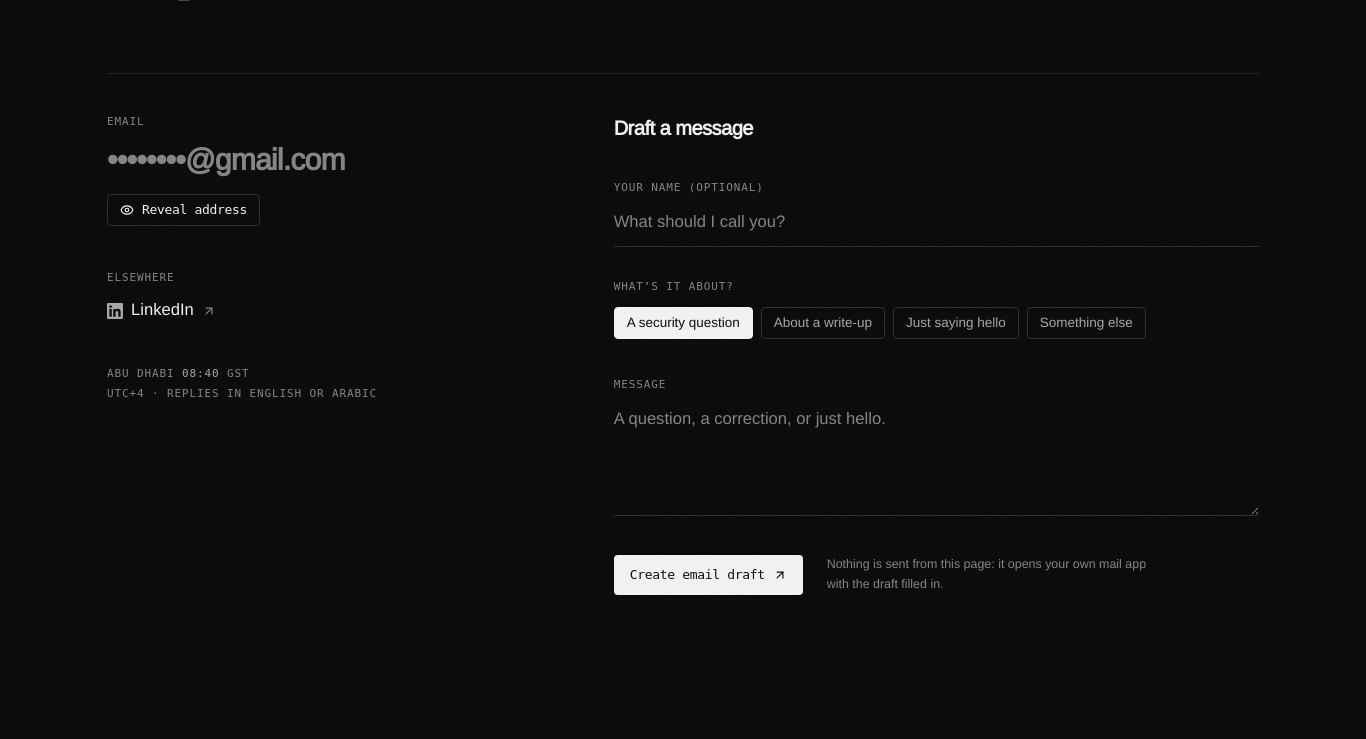
Test case: ContactSection › asks for a message before creating a draft
(page scrolled)
Click the button "Create email draft": (708, 575) [614,555,803,595]
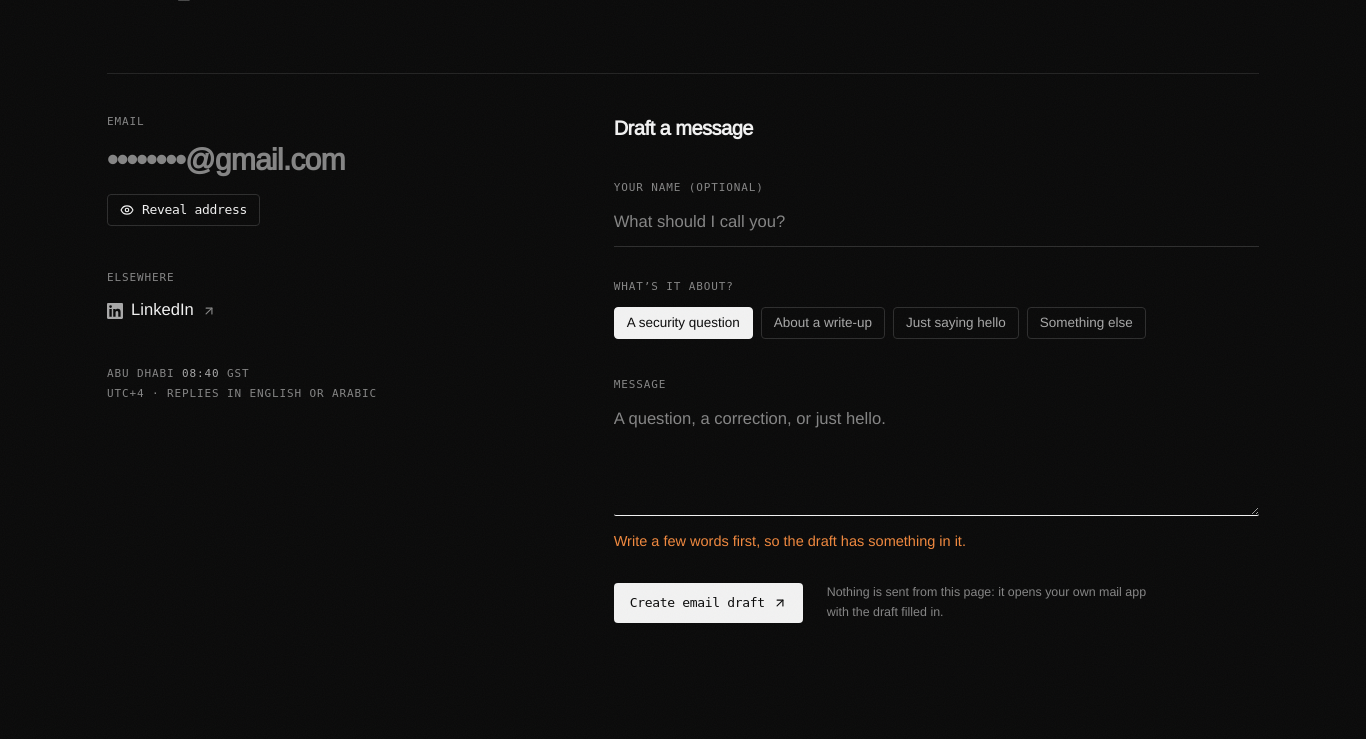
Check: the text "Write a few words first, so the draft has something in it." is shown, box [614,533,966,549]
